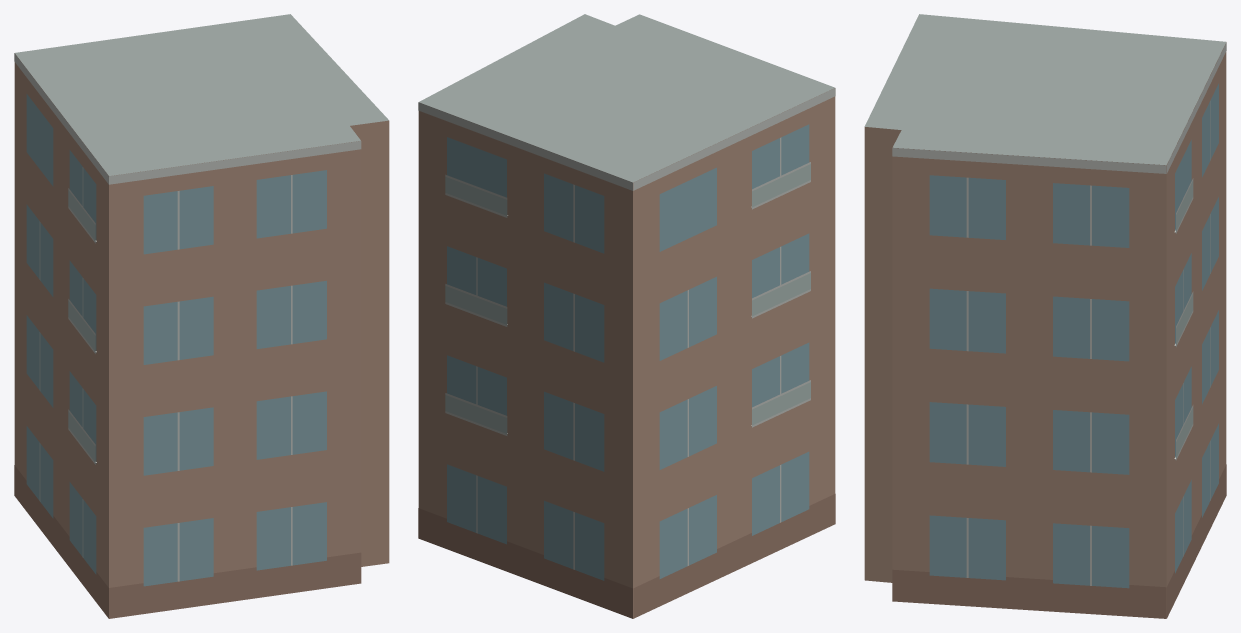
The model's file is survey-upis-32982073.glb.
The picture shows the model from 3 angles, left to right: view 1: azimuth 30°, elevation 25°; view 2: azimuth 150°, elevation 25°; view 3: azimuth 270°, elevation 25°; orthographic projection. The views are drawn at different scales.
Parts seen in each view (by area): view 1: survey-upis-32982073.tmp; view 2: survey-upis-32982073.tmp; view 3: survey-upis-32982073.tmp.
Boxes of the visible parts, x1,y1,x2,y2 form: survey-upis-32982073.tmp: (14,14,389,618); survey-upis-32982073.tmp: (418,14,835,618); survey-upis-32982073.tmp: (864,14,1226,618).
Size of the model in its own units: 9.01 by 12.6 by 9.12.
